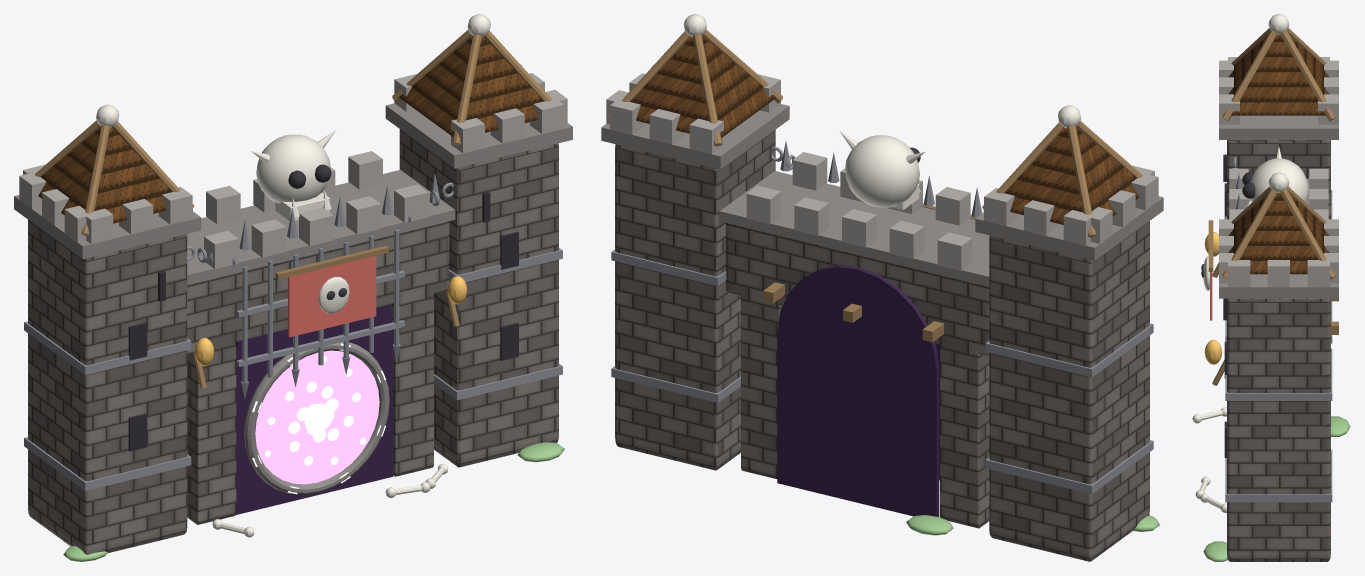
File: spawn_gate.glb
3 renders of one model, left to right at view 1: azimuth 30°, elevation 25°; view 2: azimuth 150°, elevation 25°; view 3: azimuth 270°, elevation 25°, orthographic. The views are drawn at different scales.
Parts seen in each view (by area): view 1: GateTower, GateTower.001, PortalDisc, WallTop, WallPillar, WallLedge, TowerRoof.005, WallPillar.001, TowerRoof.004, PortalBack, Banner, PortalRing (+34 smaller); view 2: GateTower, GateTower.001, PortalBack.001, PortalBackArch.001, WallTop, WallPillar, WallLedge, WallPillar.001, TowerRoof.005, TowerRoof.004, TopSkull, GateTowerCap.001 (+26 smaller); view 3: GateTower.001, TowerRoof.004, TowerRoof.005, GateTower, GateTowerCap, GateTowerCap.001, TopSkull, IronBand.002, IronBand.003, RoofRidge.007, RoofRidge.006, RoofRidge.010 (+30 smaller).
Boxes of the visible parts, x1,y1,x2,y2 form: GateTower: [28, 220, 187, 554]; GateTower.001: [399, 129, 558, 467]; PortalDisc: [255, 350, 379, 484]; WallTop: [187, 221, 449, 353]; WallPillar: [187, 312, 236, 524]; WallLedge: [187, 170, 455, 284]; TowerRoof.005: [399, 36, 543, 136]; WallPillar.001: [390, 293, 433, 476]; TowerRoof.004: [38, 126, 172, 223]; PortalBack: [236, 329, 393, 514]; Banner: [288, 256, 376, 337]; PortalRing: [244, 341, 389, 494]; GateTower: [989, 221, 1149, 561]; GateTower.001: [615, 130, 775, 470]; PortalBack.001: [777, 333, 939, 516]; PortalBackArch.001: [777, 265, 939, 436]; WallTop: [725, 223, 989, 356]; WallPillar: [940, 314, 989, 528]; WallLedge: [719, 171, 989, 286]; WallPillar.001: [741, 266, 782, 478]; TowerRoof.005: [630, 36, 776, 137]; TowerRoof.004: [1004, 127, 1139, 224]; TopSkull: [845, 135, 919, 207]; GateTowerCap.001: [601, 104, 789, 169]; GateTower.001: [1227, 298, 1330, 561]; TowerRoof.004: [1228, 34, 1329, 115]; TowerRoof.005: [1228, 193, 1329, 274]; GateTower: [1227, 140, 1330, 219]; GateTowerCap: [1219, 115, 1338, 139]; GateTowerCap.001: [1219, 274, 1338, 298]; TopSkull: [1250, 158, 1308, 202]; IronBand.002: [1225, 450, 1332, 502]; IronBand.003: [1225, 348, 1332, 400]; RoofRidge.007: [1280, 30, 1335, 121]; RoofRidge.006: [1222, 30, 1277, 121]; RoofRidge.010: [1222, 189, 1277, 279].
Bounding box in the file's own units: 5.01 × 4.1 × 1.58.
Materials: 16 (2 with a texture image).
